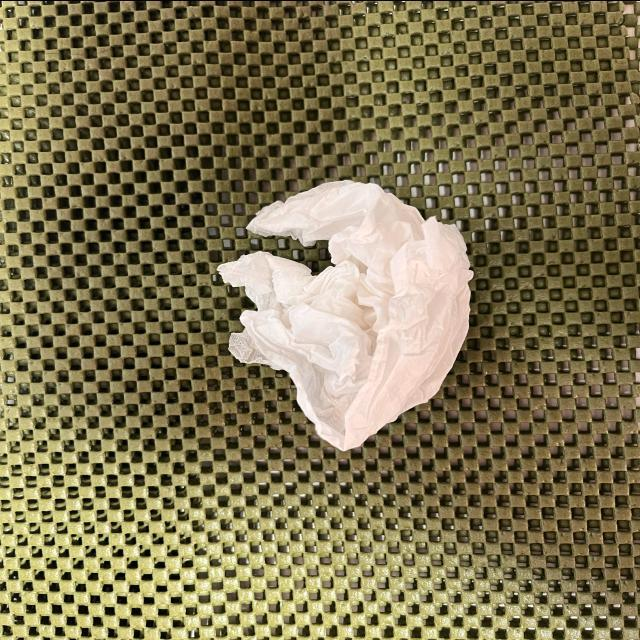Paper: (202, 178, 482, 468)
